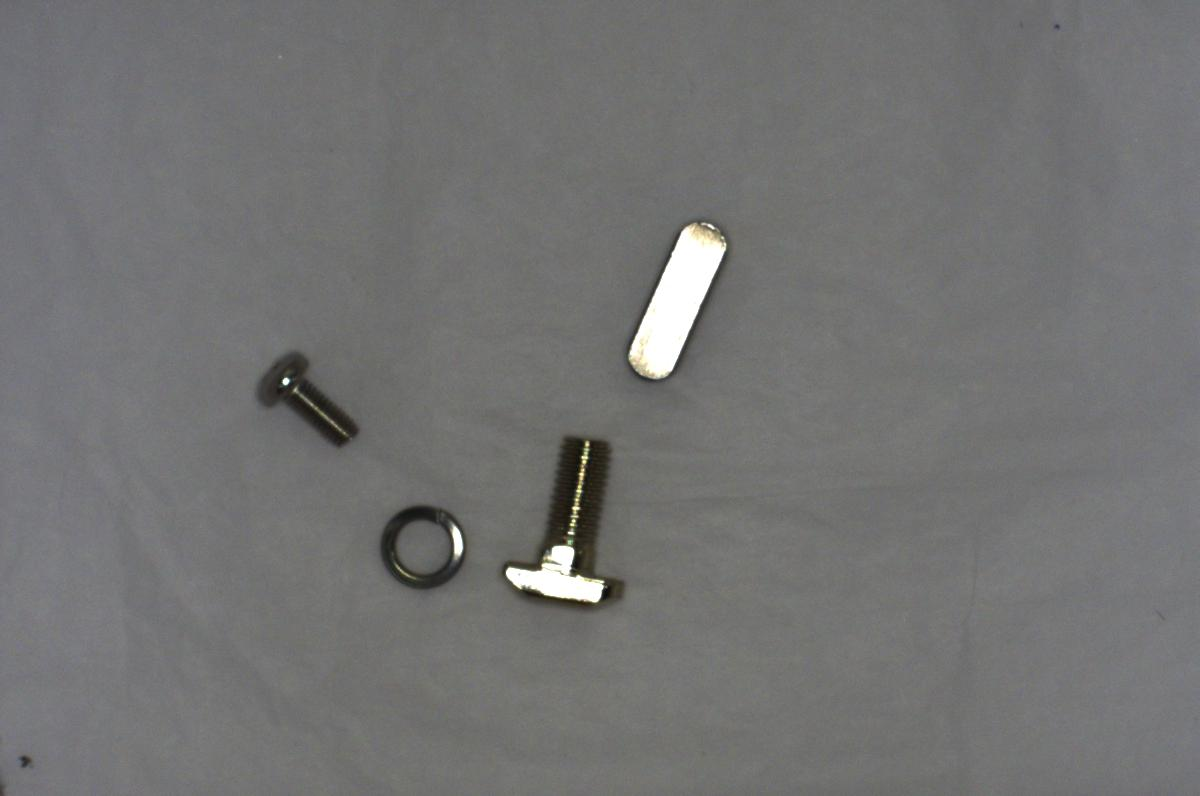Keybar: (615, 212, 744, 381)
Round head screw: (246, 346, 365, 452)
Spring washer: (370, 500, 467, 592)
T-shaped screw: (481, 422, 633, 626)
